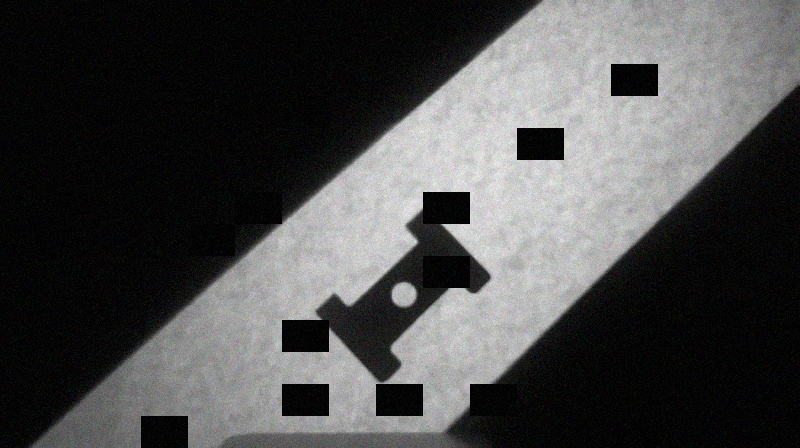O002: (312, 206, 496, 385)
